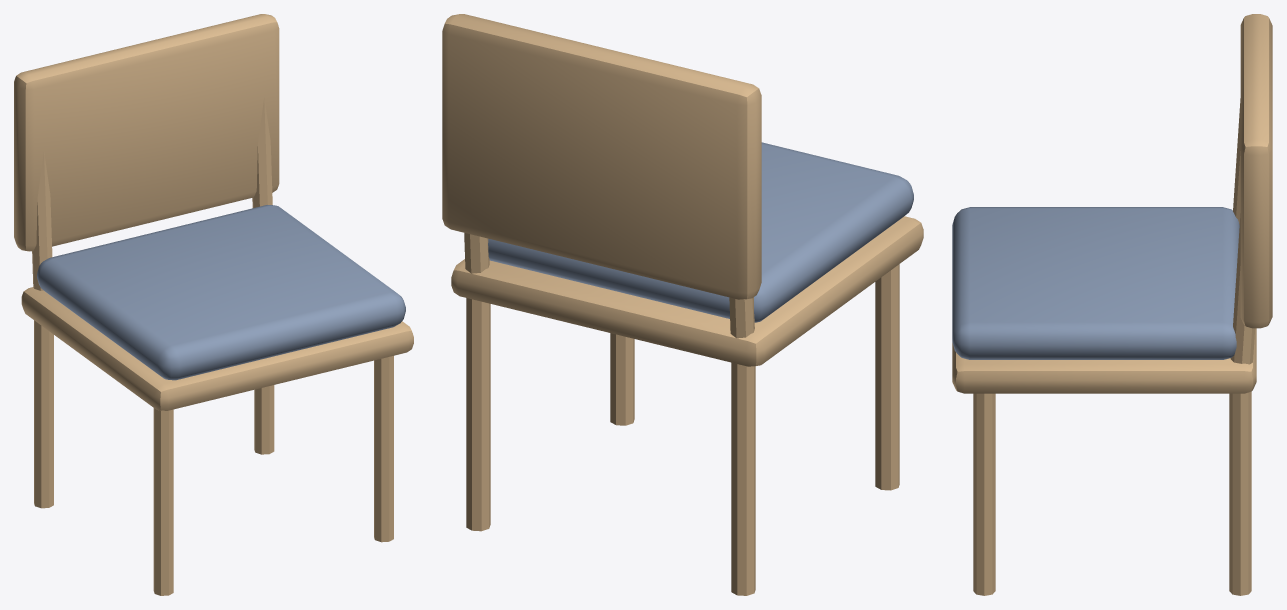
File: chair_cushioned.glb
3 renders of one model, left to right at view 1: azimuth 30°, elevation 25°; view 2: azimuth 150°, elevation 25°; view 3: azimuth 270°, elevation 25°, orthographic. The views are drawn at different scales.
Visible parts, largest first — view 1: wood, cushion; view 2: wood, cushion; view 3: cushion, wood.
Part boxes in pixels (x1=…): wood: x1=14, y1=14, x2=413, y2=595; cushion: x1=37, y1=205, x2=405, y2=380; wood: x1=442, y1=14, x2=923, y2=595; cushion: x1=488, y1=142, x2=913, y2=322; cushion: x1=952, y1=207, x2=1239, y2=359; wood: x1=952, y1=14, x2=1272, y2=595.
Size of the model in its own units: 0.4 by 0.63 by 0.4.
